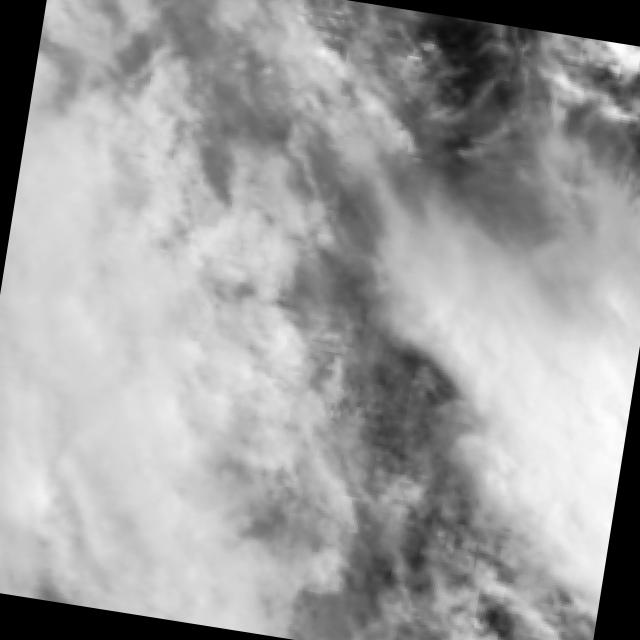CB: (0, 130, 163, 517)
